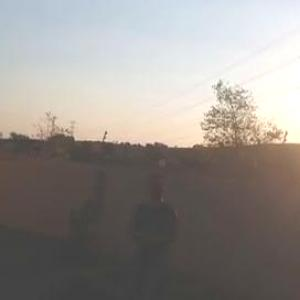follow: (121, 165, 183, 299)
